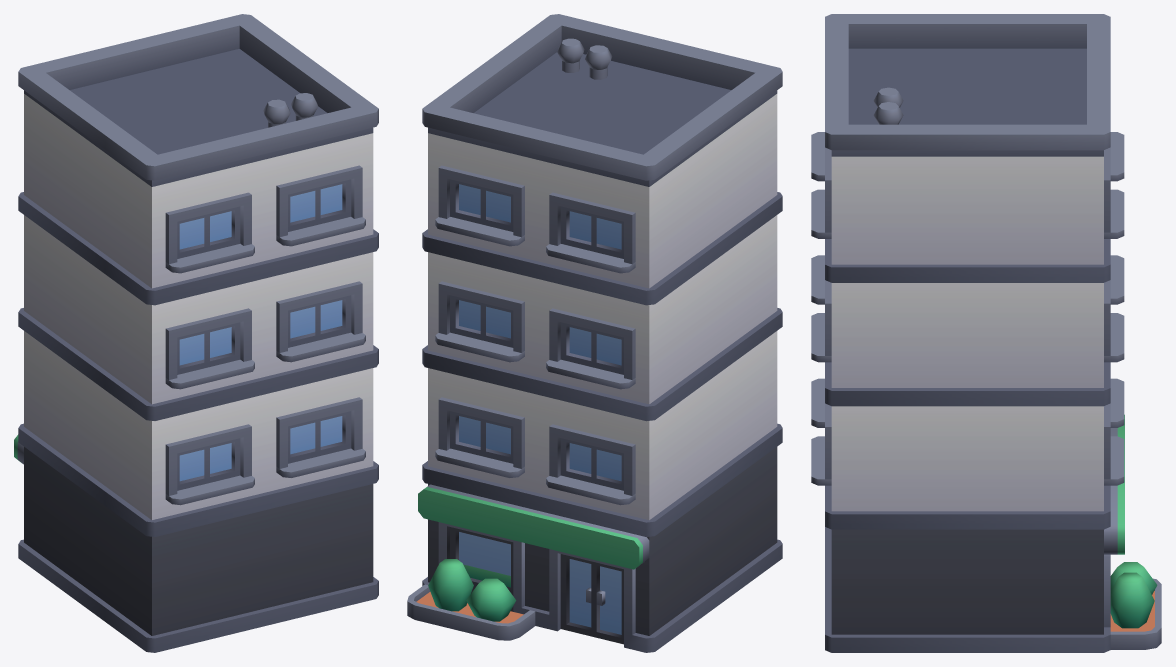
File: building-f.glb
3 views of the same model, side by side, from view 1: azimuth 30°, elevation 25°; view 2: azimuth 150°, elevation 25°; view 3: azimuth 270°, elevation 25° (orthographic). The views are drawn at different scales.
Visible parts, largest first — view 1: building-f; view 2: building-f; view 3: building-f.
Boxes of the visible parts, <box> form: building-f: <box>14,14,378,652</box>; building-f: <box>407,14,782,652</box>; building-f: <box>811,14,1161,652</box>.
Bounding box in the file's own units: 0.84 × 1.69 × 1.03.
1 material, 1 textured.
